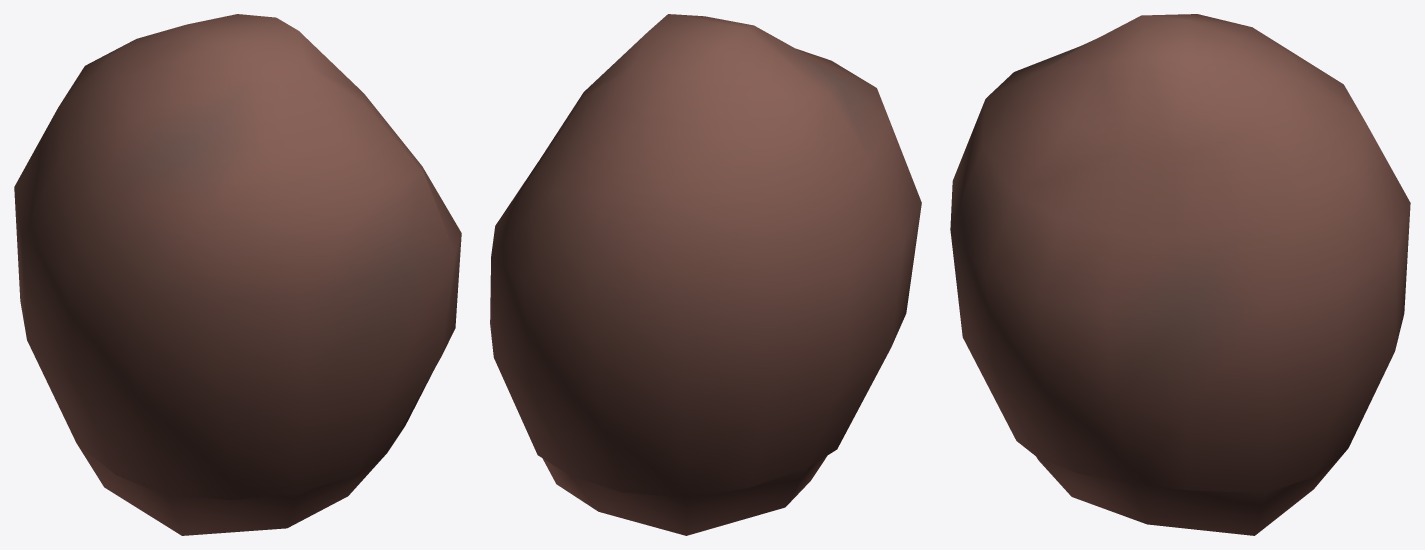
Rendered from patato_002.fbx.
3 renders of one model, left to right at view 1: azimuth 30°, elevation 25°; view 2: azimuth 150°, elevation 25°; view 3: azimuth 270°, elevation 25°, orthographic. The views are drawn at different scales.
Parts seen in each view (by area): view 1: patato_002; view 2: patato_002; view 3: patato_002.
Boxes of the visible parts, bbox=[...] form: patato_002: bbox=[14, 14, 461, 535]; patato_002: bbox=[490, 14, 921, 535]; patato_002: bbox=[950, 14, 1410, 535].
Bounding box in the file's own units: 7.08 × 7.73 × 8.77.
